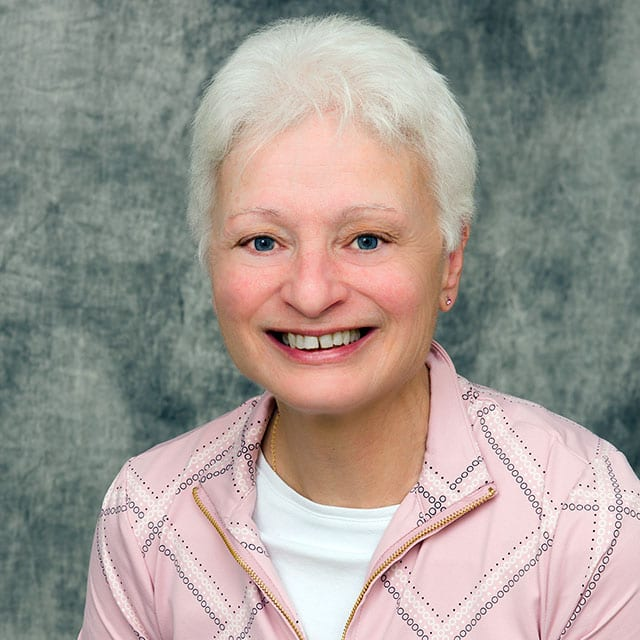human: (207, 84, 450, 418)
